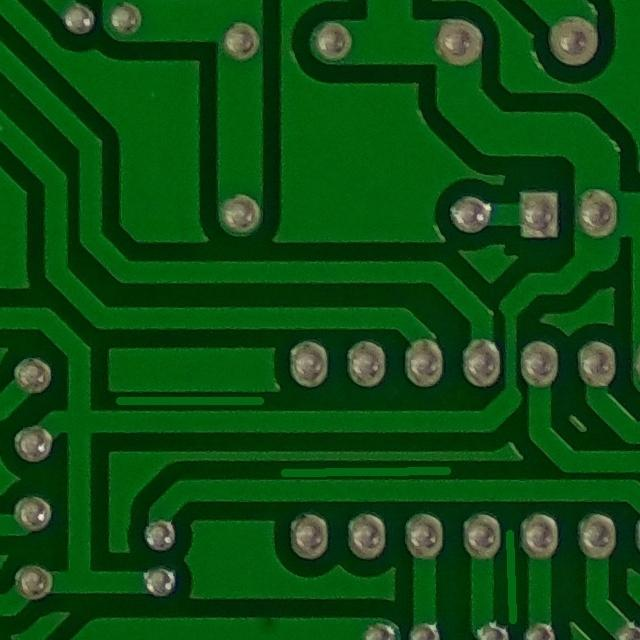spurious_copper: (263, 452, 469, 496), (100, 380, 268, 419), (493, 512, 536, 632)
